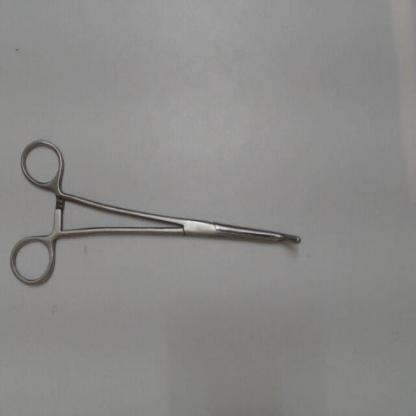Lahey Forceps: (6, 131, 306, 292)
